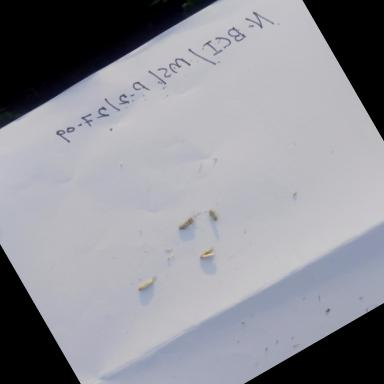pbw: (128, 269, 166, 301), (172, 213, 200, 236), (195, 242, 220, 264), (202, 205, 222, 226)
